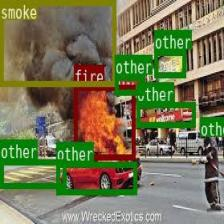fire: (74, 84, 134, 159)
smoke: (0, 0, 115, 86)
